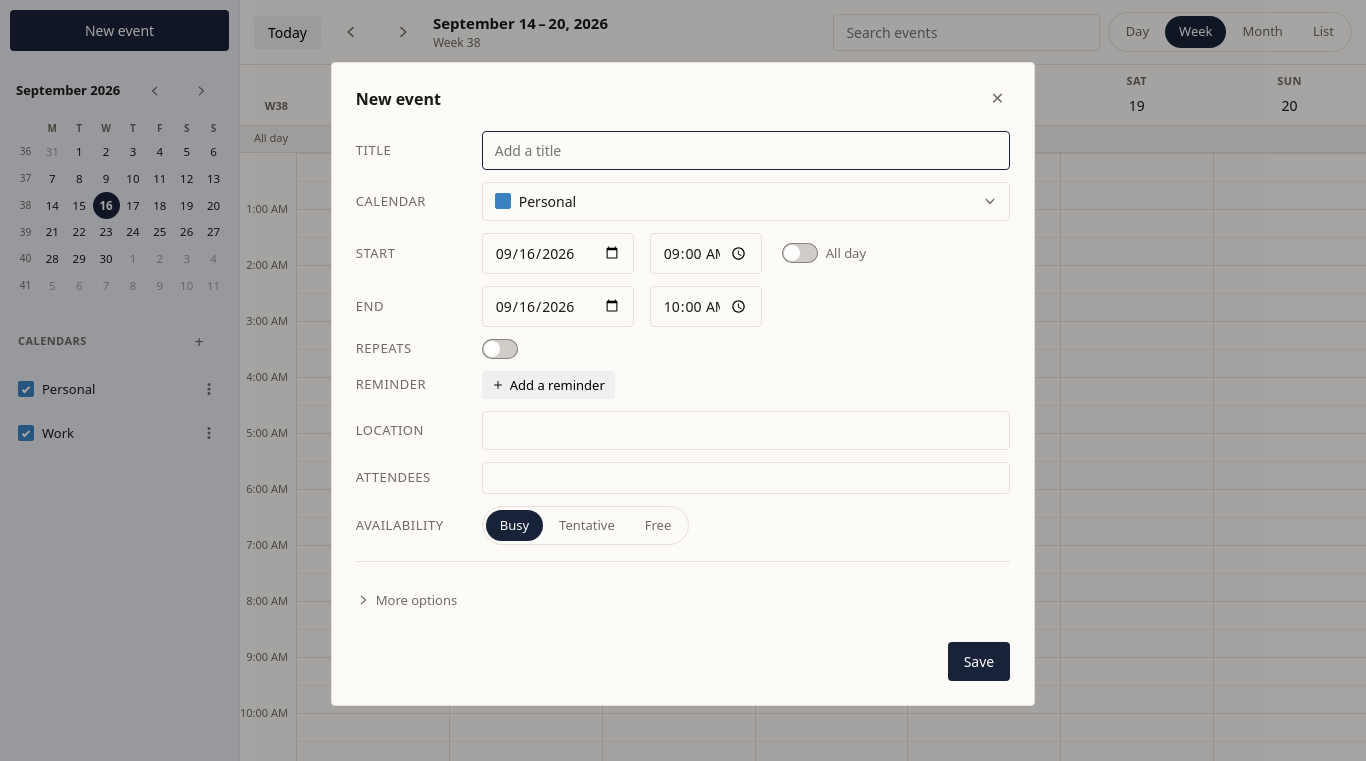
CalendarLayout — sowing and saving the editor › says only that it saved when no invitation went out
This screenshot has width=1366, height=761.
Step 1. Click the button "Save" → point(979, 662), box top-left (948, 642), bottom-right (1010, 681)
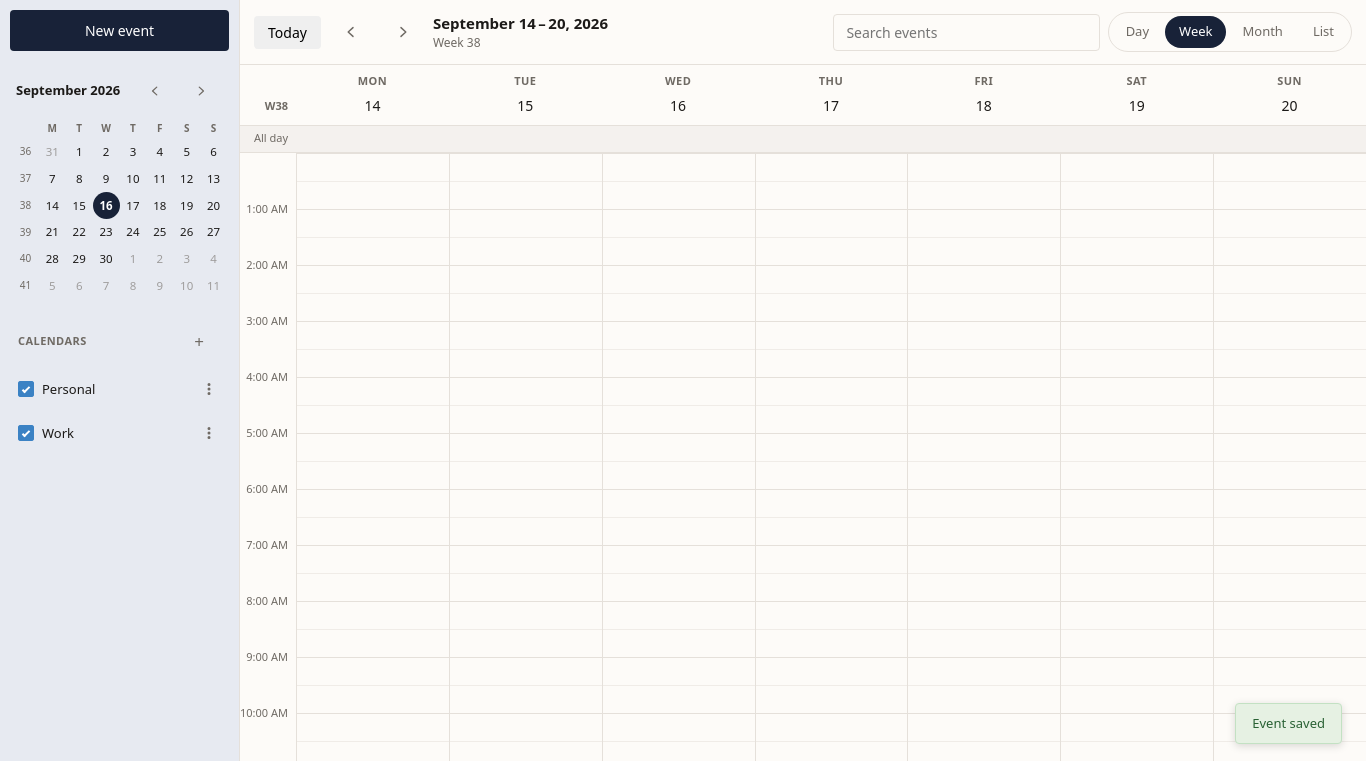
Result: the text "Event saved" is shown at top-left (1252, 714), bottom-right (1325, 733)
